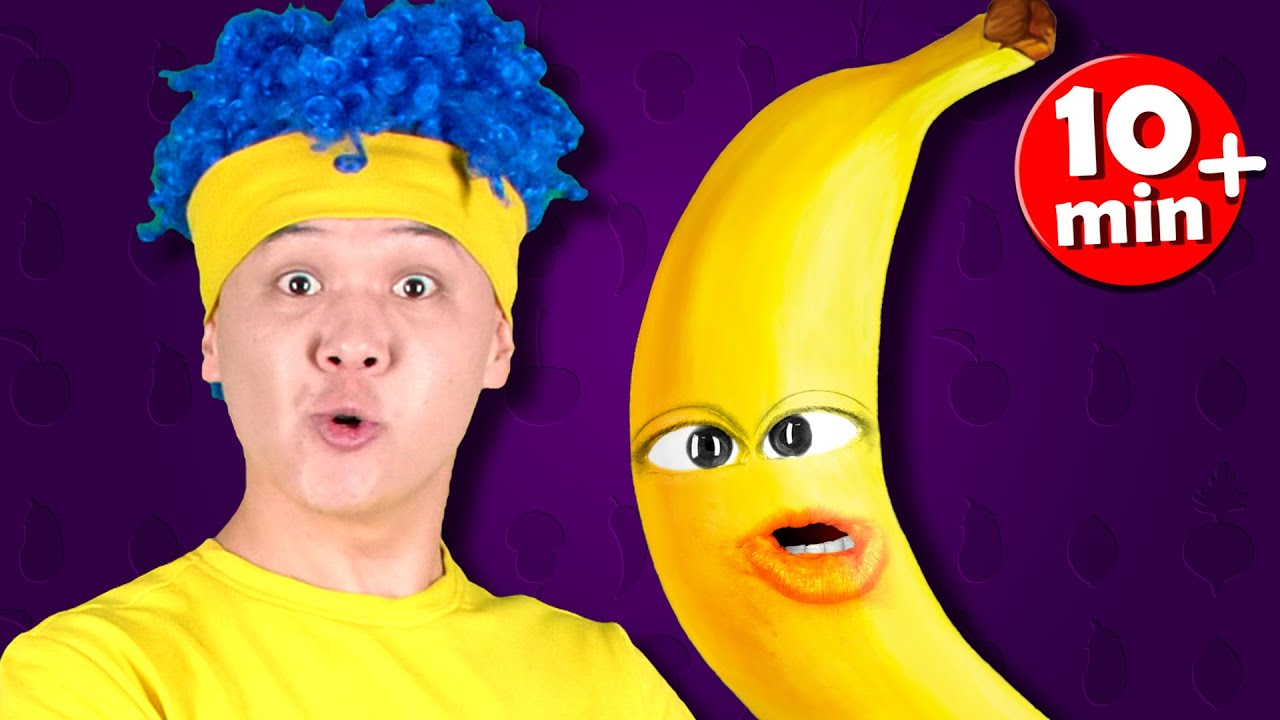banana: (628, 1, 1065, 718)
